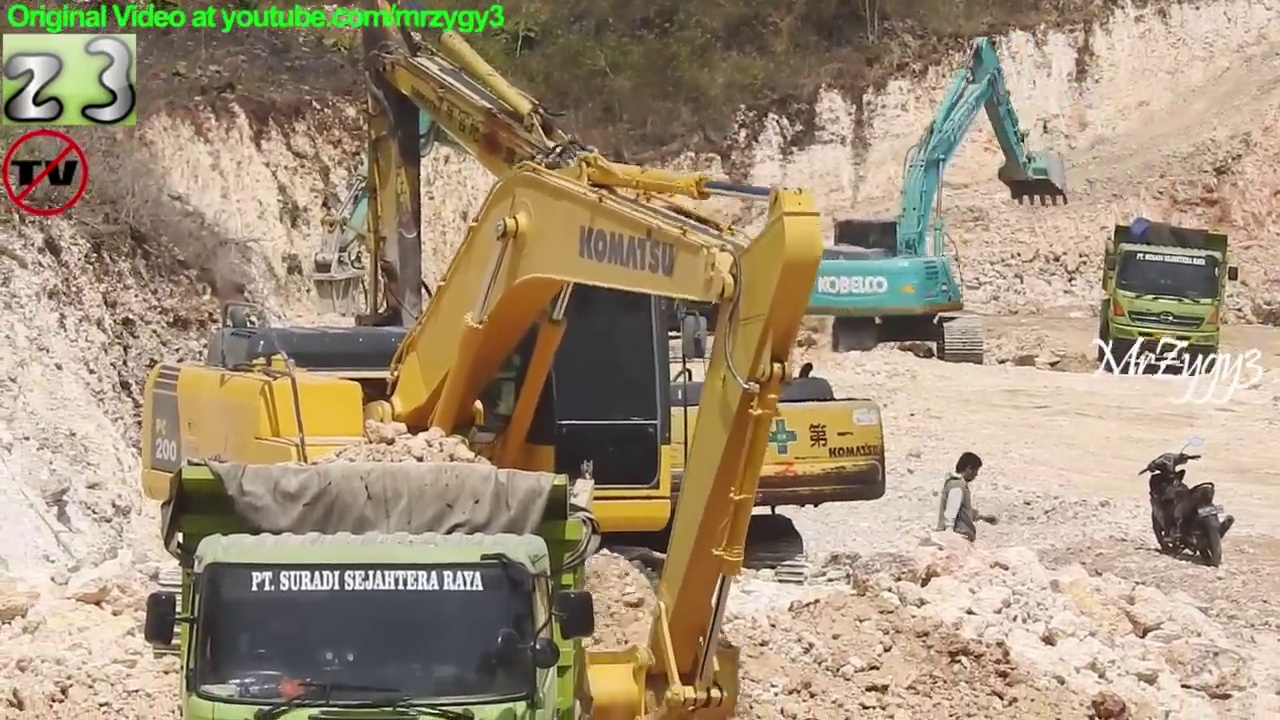excavator: (130, 134, 831, 720), (331, 1, 895, 595), (302, 78, 788, 376), (762, 27, 1075, 369)
truck: (137, 455, 608, 720), (1096, 219, 1243, 378)
